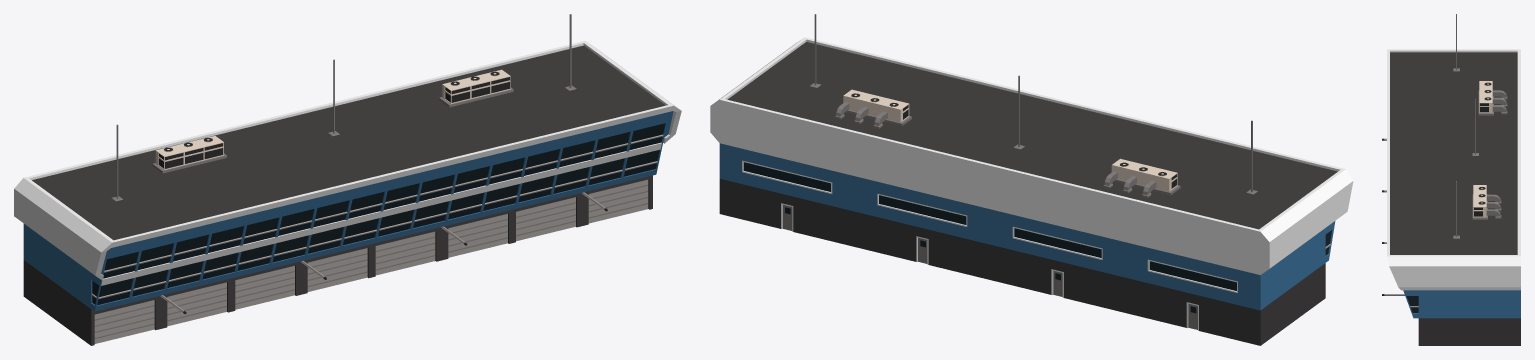
The model's file is building-race-track-long.glb.
3 renders of one model, left to right at view 1: azimuth 30°, elevation 25°; view 2: azimuth 150°, elevation 25°; view 3: azimuth 270°, elevation 25°, orthographic. The views are drawn at different scales.
Parts seen in each view (by area): view 1: building-race-track-long; view 2: building-race-track-long; view 3: building-race-track-long.
Boxes of the visible parts, box(x1,y1,x2,y2) form: building-race-track-long: box(14, 14, 681, 345); building-race-track-long: box(710, 14, 1353, 345); building-race-track-long: box(1382, 14, 1520, 345).
Bounding box in the file's own units: 49.58 × 15.51 × 13.58.
Materials: 1 (1 with a texture image).
